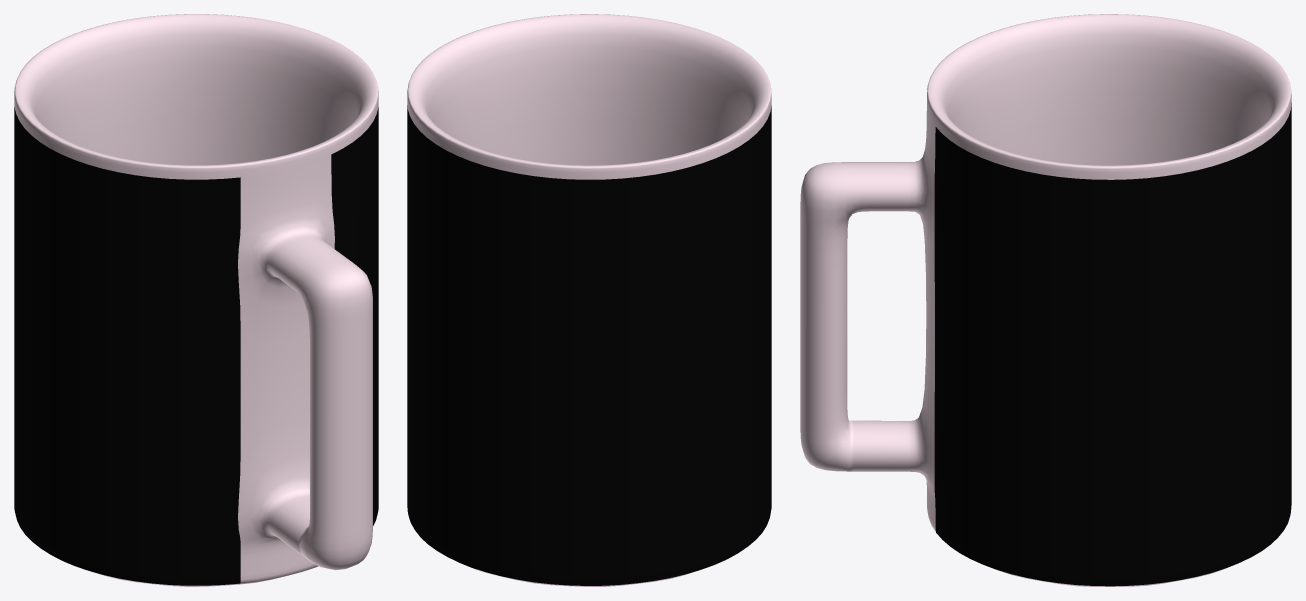
File: taza.gltf.glb
3 views of the same model, side by side, from view 1: azimuth 30°, elevation 25°; view 2: azimuth 150°, elevation 25°; view 3: azimuth 270°, elevation 25° (orthographic).
Parts seen in each view (by area): view 1: Cylinder.001, Cylinder; view 2: Cylinder.001, Cylinder; view 3: Cylinder.001, Cylinder.
Boxes of the visible parts, bbox=[...] form: Cylinder.001: bbox=[14, 107, 378, 585]; Cylinder: bbox=[14, 14, 378, 586]; Cylinder.001: bbox=[407, 105, 771, 585]; Cylinder: bbox=[407, 14, 771, 586]; Cylinder.001: bbox=[934, 103, 1291, 586]; Cylinder: bbox=[800, 14, 1291, 586].
Size of the model in its own units: 1.95 by 2.52 by 2.62.
2 materials, 2 textured.
